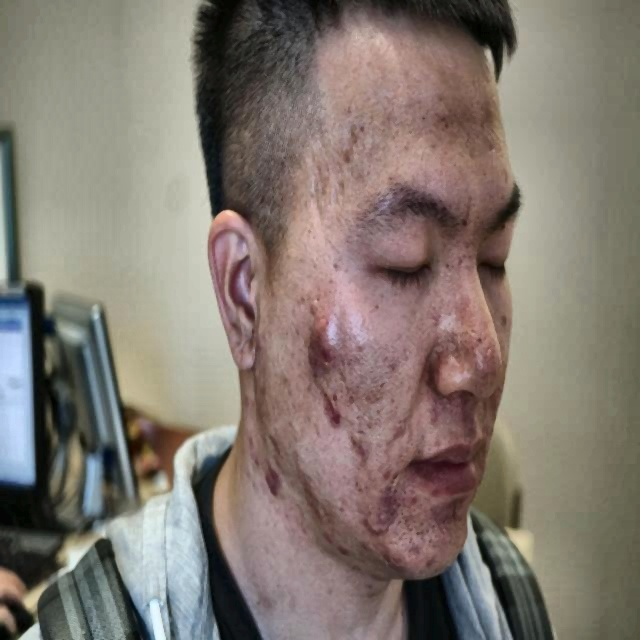papule: (304, 305, 342, 375), (302, 480, 326, 526), (348, 420, 376, 459), (348, 468, 372, 504), (259, 458, 280, 499), (383, 537, 405, 576), (317, 396, 343, 426), (404, 477, 422, 514), (447, 249, 471, 276), (335, 529, 352, 566), (387, 413, 406, 444), (405, 521, 423, 552), (416, 540, 433, 572), (319, 522, 336, 554), (373, 464, 393, 491), (379, 484, 395, 514), (364, 509, 383, 534), (428, 405, 446, 431), (428, 308, 445, 332), (454, 200, 468, 227), (242, 388, 255, 413)
